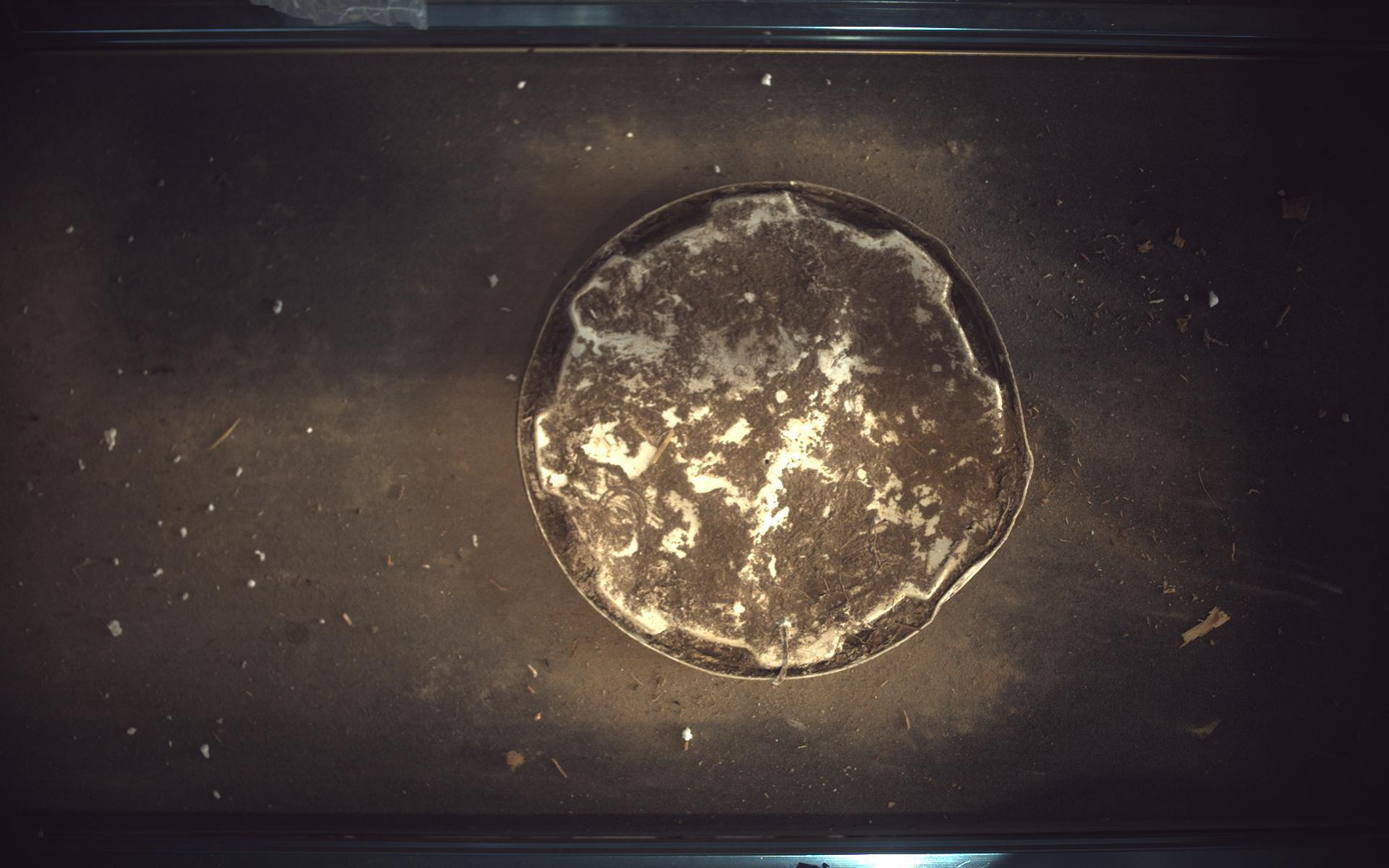plastic: (518, 182, 1035, 683)
